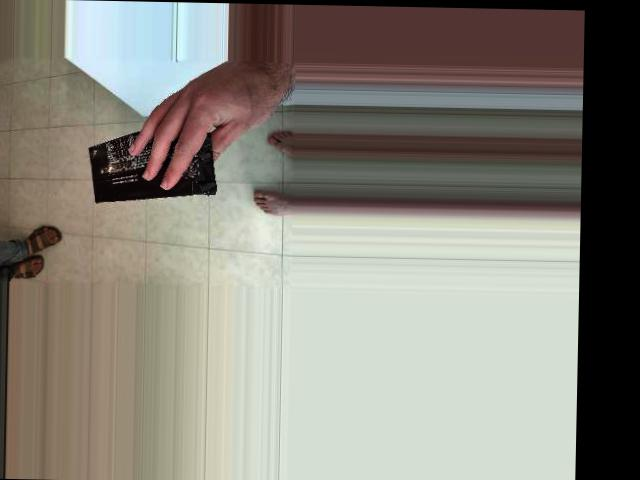chocolate: (84, 105, 235, 207)
